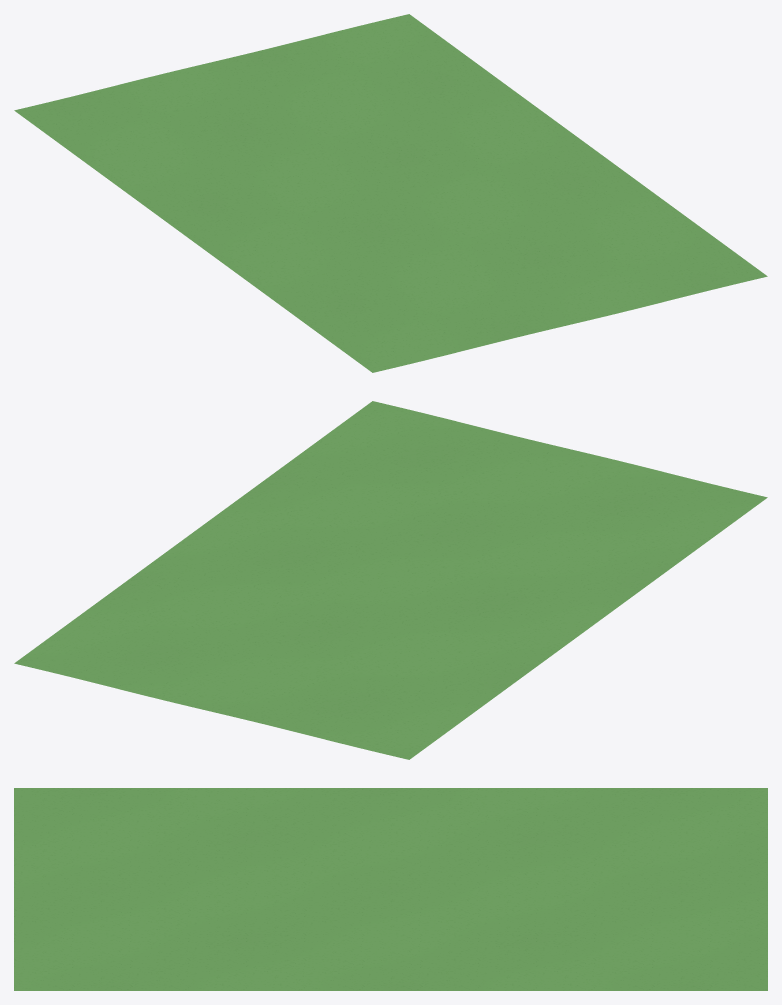
File: field.glb
3 renders of one model, top to bottom at view 1: azimuth 30°, elevation 25°; view 2: azimuth 150°, elevation 25°; view 3: azimuth 270°, elevation 25°, orthographic. The views are drawn at different scales.
Size of the model in its own units: 21 by 0.0694 by 33.
1 material, 1 textured.
